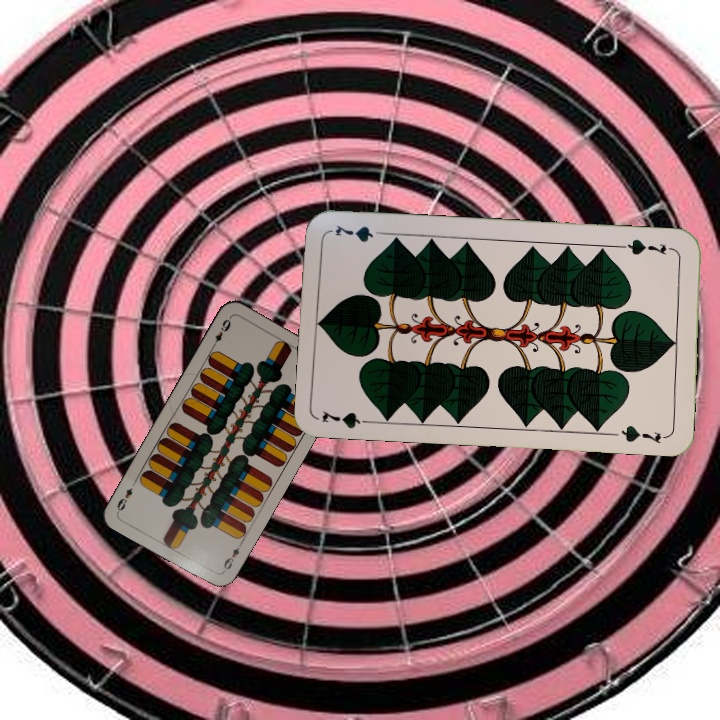E9: (219, 538, 245, 575), (208, 313, 233, 351)
G7: (318, 407, 378, 431), (618, 235, 677, 258)
